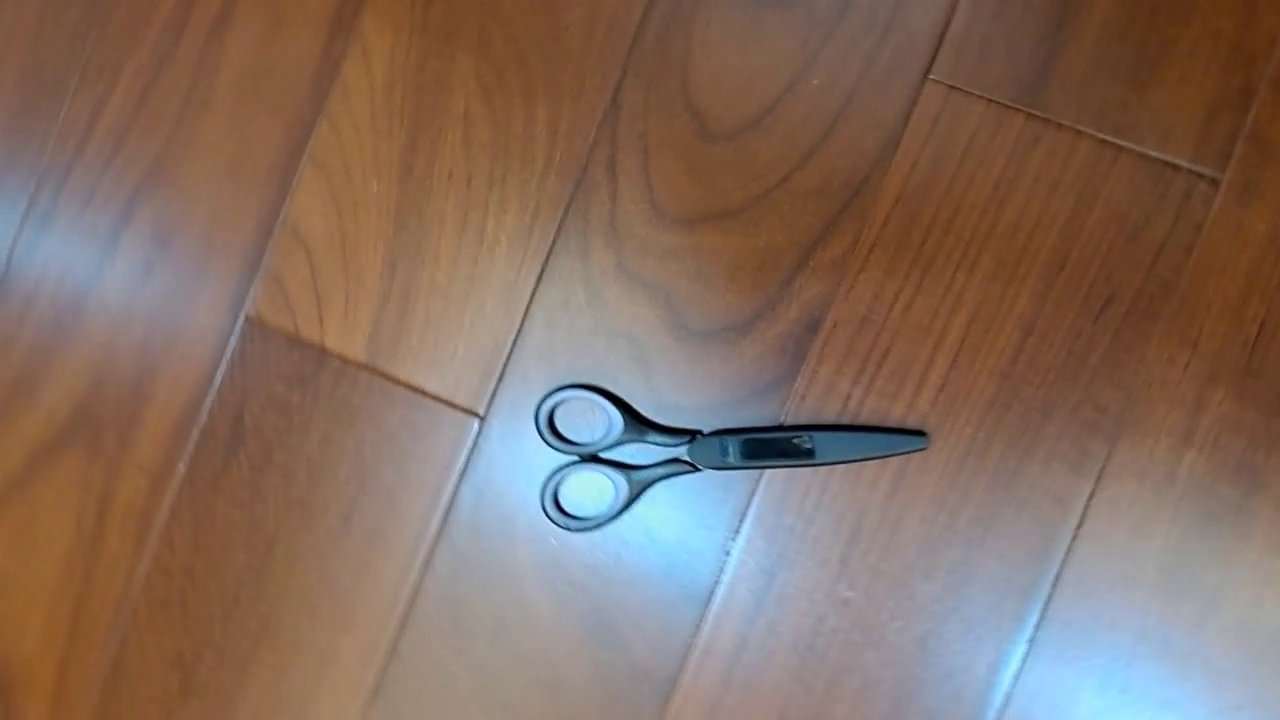scissors: (533, 382, 931, 533)
